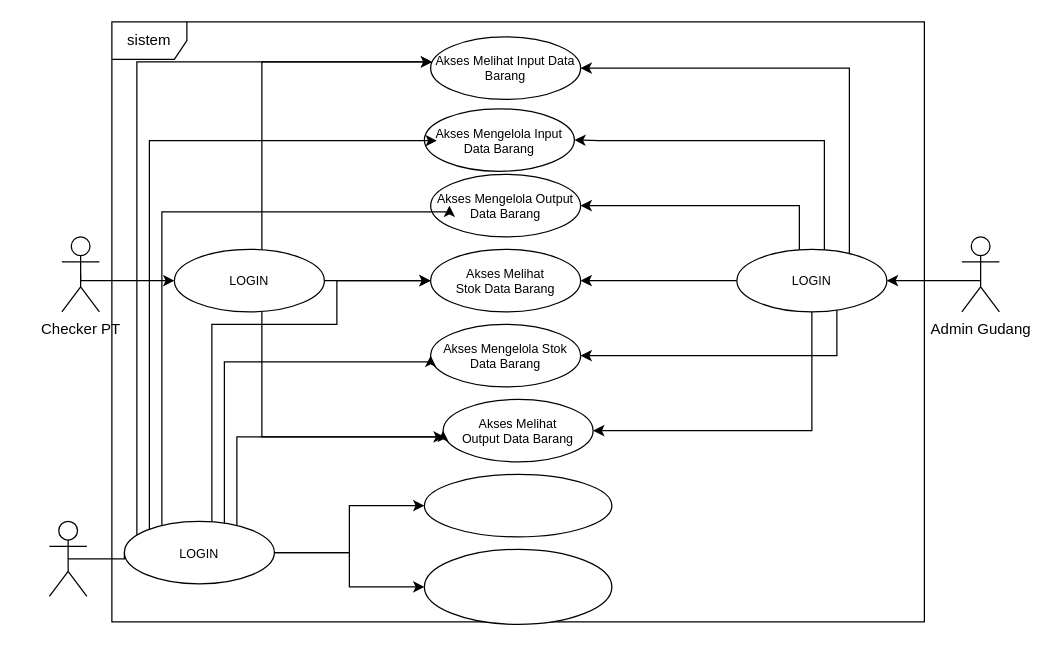
The diagram is 1053 pixels wide and 646 high, and some of its shapes have lost their labels. Each missing label, with the centre of its shape:
"Admin Master" belongs at point 67,558.
"seorang admin master dapat memanipulasi data checker dan data admin gudang" belongs at point 517,586.
"seorang admin master dapat membuat akun checker dan admin gudang" belongs at point 517,505.
